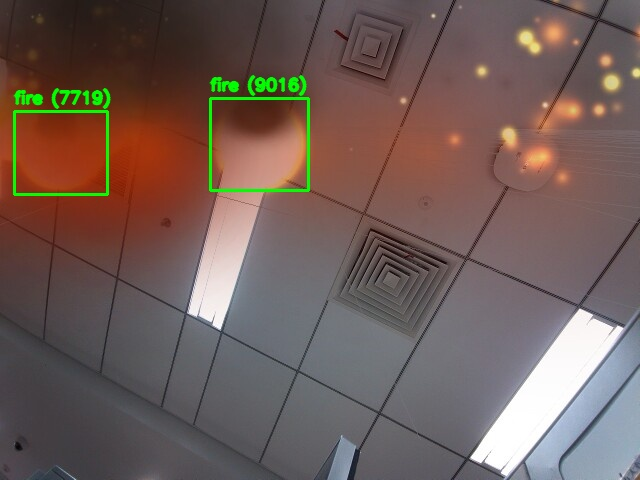fire: (210, 98, 308, 190), (14, 111, 107, 194)
